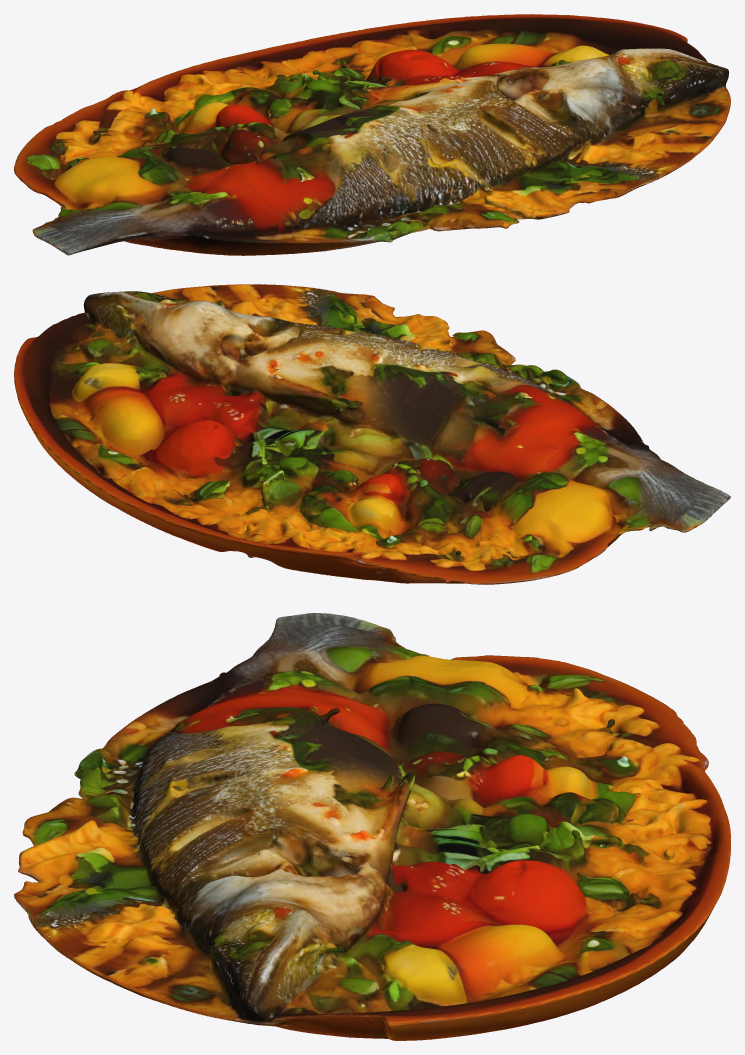
The model's file is grilled-fish-dish.glb.
The picture shows the model from 3 angles, top to bottom: view 1: azimuth 30°, elevation 25°; view 2: azimuth 150°, elevation 25°; view 3: azimuth 270°, elevation 25°; orthographic projection. The views are drawn at different scales.
Parts seen in each view (by area): view 1: tripo_node_8956e029-621e-4b10-9ee7-2a3778cb933d; view 2: tripo_node_8956e029-621e-4b10-9ee7-2a3778cb933d; view 3: tripo_node_8956e029-621e-4b10-9ee7-2a3778cb933d.
Part boxes in pixels (x1,y1,x2,y2): tripo_node_8956e029-621e-4b10-9ee7-2a3778cb933d: [14, 14, 730, 255]; tripo_node_8956e029-621e-4b10-9ee7-2a3778cb933d: [14, 284, 730, 584]; tripo_node_8956e029-621e-4b10-9ee7-2a3778cb933d: [14, 613, 730, 1040].
Bounding box in the file's own units: 1 × 0.1345 × 0.6826.
1 material, 1 textured.
